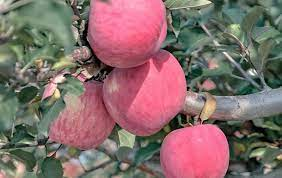Apple: (100, 48, 187, 137), (40, 69, 115, 150), (84, 0, 169, 65), (159, 123, 231, 178)
